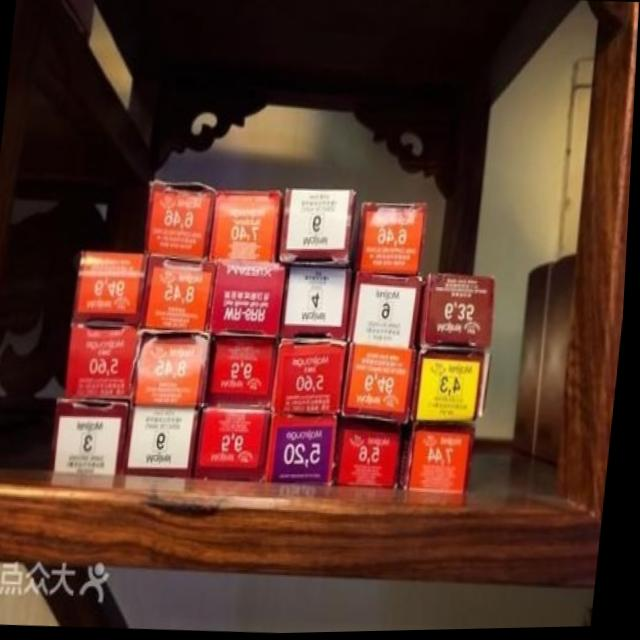box: (54, 397, 135, 490), (200, 408, 275, 495), (133, 330, 215, 409), (346, 343, 421, 427), (413, 352, 494, 429), (350, 273, 428, 352), (142, 252, 219, 332), (210, 261, 290, 338), (128, 409, 203, 491), (404, 428, 481, 507), (274, 338, 350, 417), (421, 275, 500, 351), (146, 180, 220, 261), (269, 417, 342, 498), (75, 251, 150, 328), (67, 323, 140, 402), (282, 190, 359, 264), (358, 204, 432, 278), (209, 336, 280, 412), (212, 191, 285, 263), (283, 269, 355, 342), (343, 428, 406, 500)
